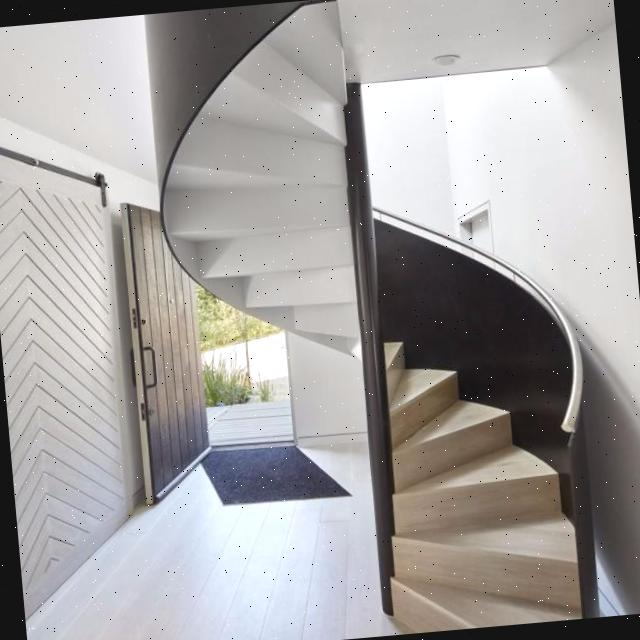stairs: (367, 324, 582, 634)
